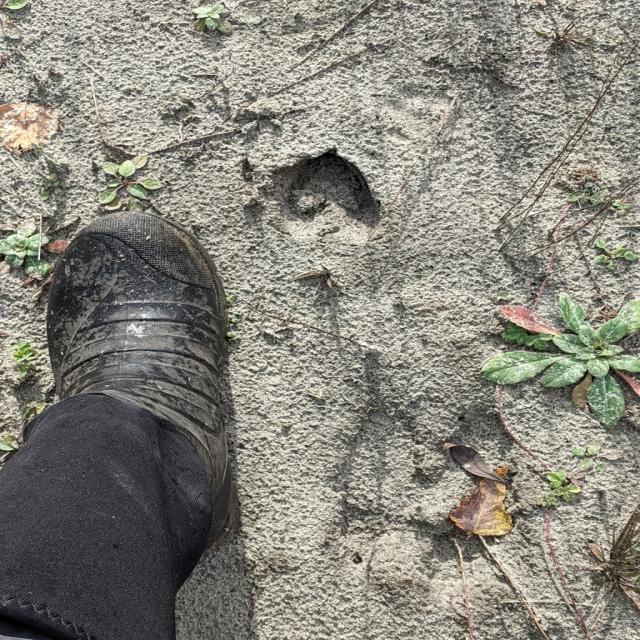deer: (273, 149, 390, 236)
